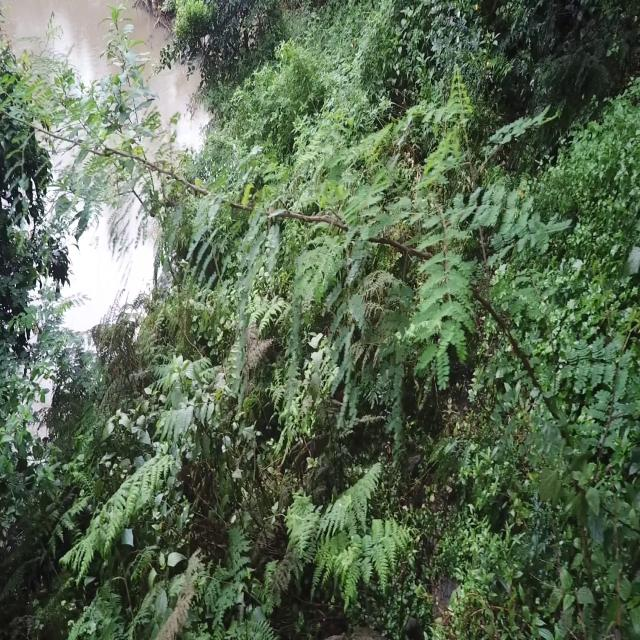Mysore-Thorn-Weed: (0, 43, 606, 501)
